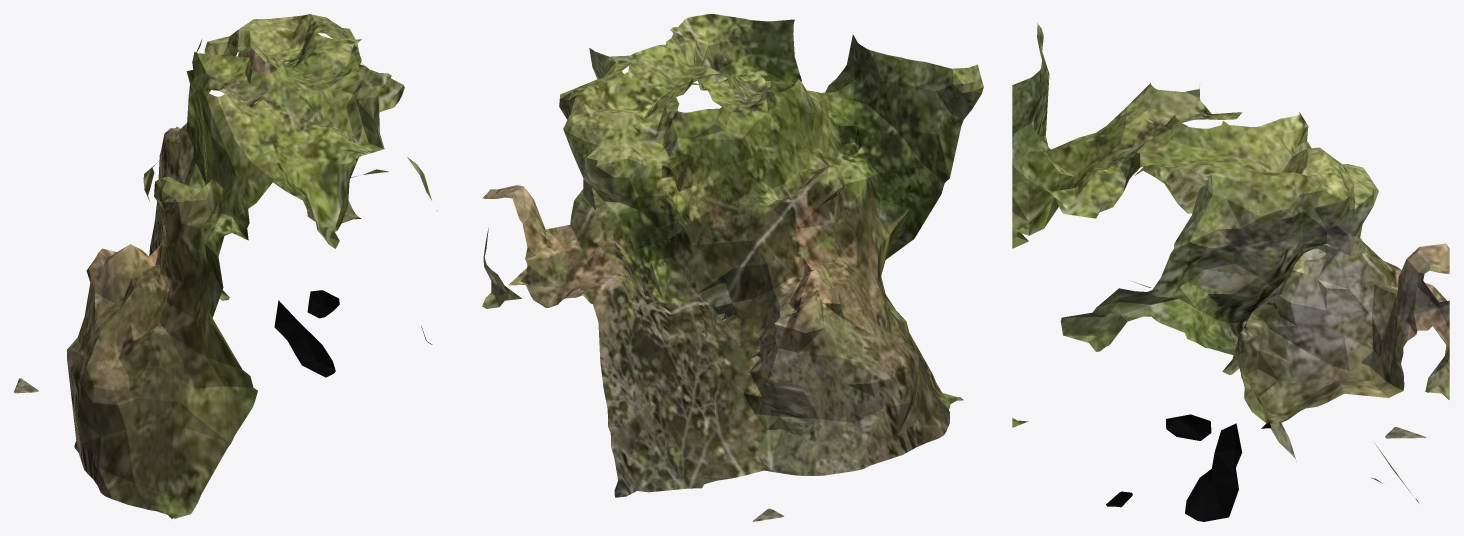
3 views of the same model, side by side, from view 1: azimuth 30°, elevation 25°; view 2: azimuth 150°, elevation 25°; view 3: azimuth 270°, elevation 25° (orthographic). The views are drawn at different scales.
Bounding box in the file's own units: 2.87 × 2.95 × 2.95.
Materials: 5 (5 with a texture image).
